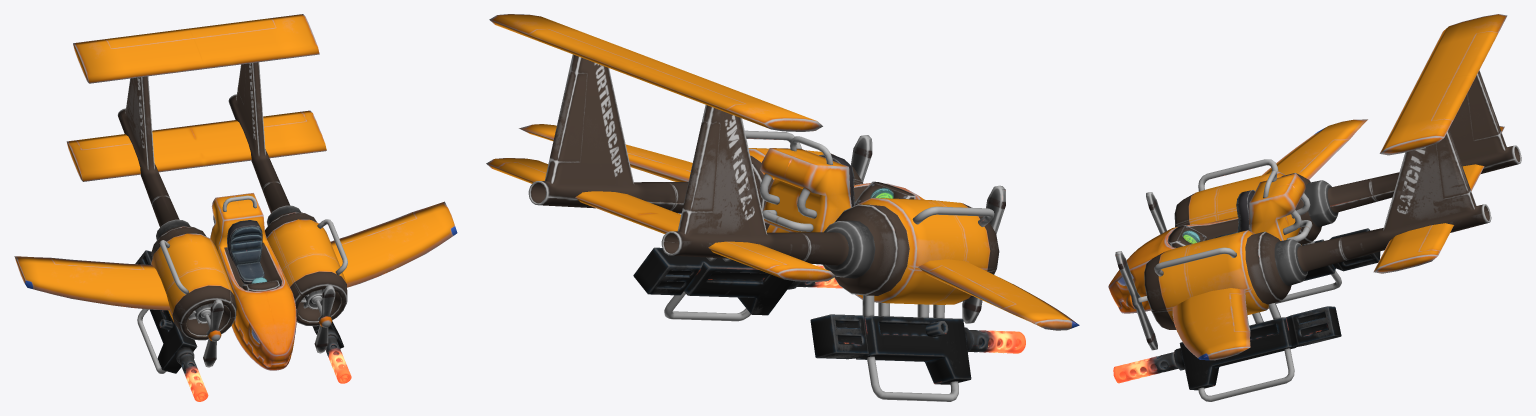
3 renders of one model, left to right at view 1: azimuth 30°, elevation 25°; view 2: azimuth 150°, elevation 25°; view 3: azimuth 270°, elevation 25°, orthographic. The views are drawn at different scales.
Parts seen in each view (by area): view 1: Stylized Plane; view 2: Stylized Plane; view 3: Stylized Plane.
Part boxes in pixels (box(x1,y1,x2,y2)): Stylized Plane: box(14, 14, 457, 401); Stylized Plane: box(486, 14, 1079, 401); Stylized Plane: box(1108, 14, 1521, 401).
Size of what is drawn, in the model's own units: 2.98 by 1.84 by 2.26.
Materials: 1 (1 with a texture image).
